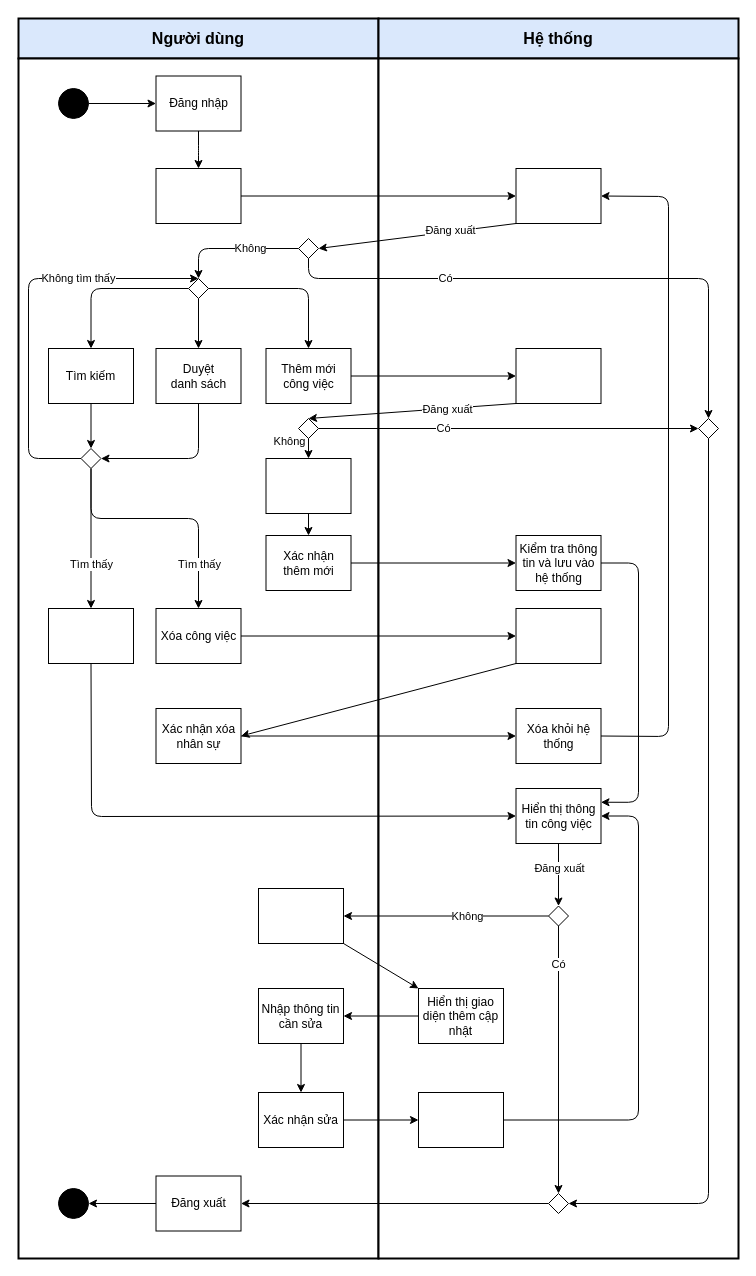
This 756x1276 diagram has some shape labels left out. The centre of each missing label's shape, as x and y in pixels:
"Cập nhật thông tin công việc" belongs at (301,916).
"Hiển thị danh sách công việc" belongs at (558,196).
"Hiển thị giao diện thêm mới" belongs at (558,376).
"Hiển thị thông báo xác nhận xóa" belongs at (558,636).
"Lưu thông tin" belongs at (461,1120).
"Nhập thông tin cần thiết" belongs at (308,486).
"Xem chi tiết công việc" belongs at (91,636).
"Xem danh sách công việc" belongs at (198,196).
